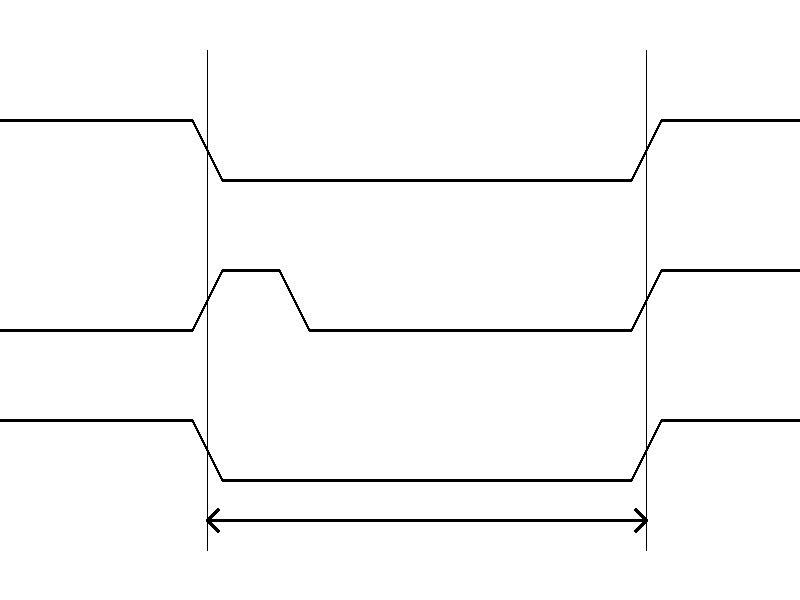double_arrow: (207, 505, 646, 535)
